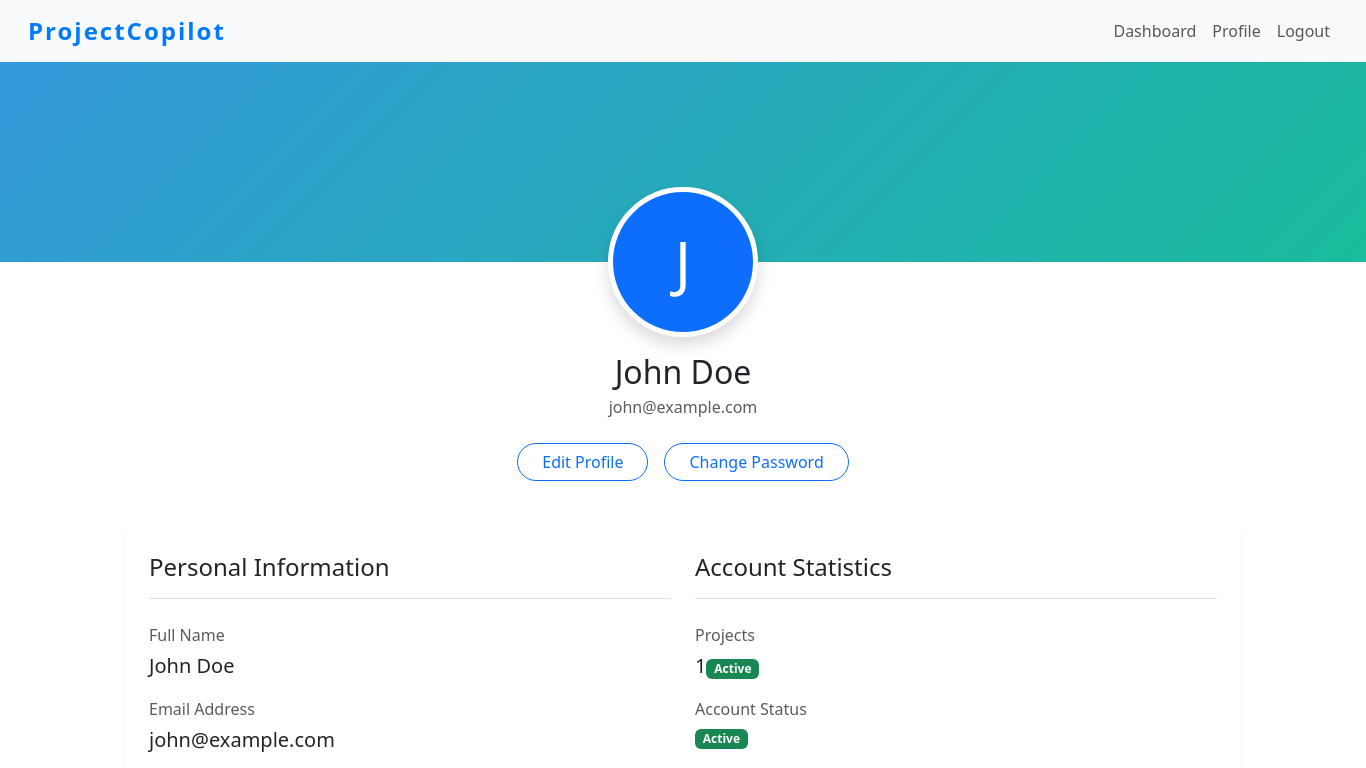
Test case: handles password change error
Step 1. Click the button "Change Password" → [757, 462], box left=664, top=443, right=849, bottom=481
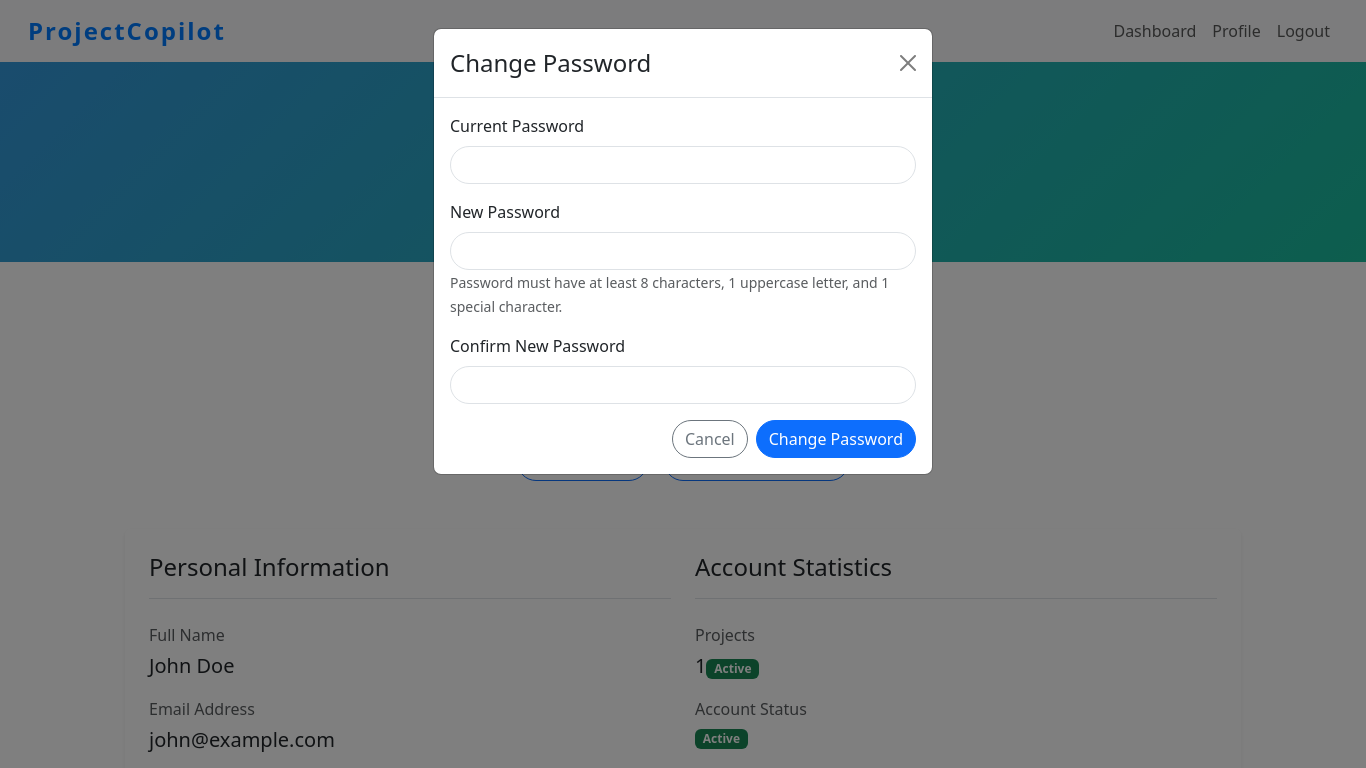
Expected: the number of buttons "Change Password" is 3, left=664, top=443, right=849, bottom=481; left=450, top=45, right=651, bottom=81; left=756, top=420, right=916, bottom=458
Step 2. Type "currentPassword123!" into the password field below "Current Password" → [683, 165], box left=450, top=146, right=916, bottom=184
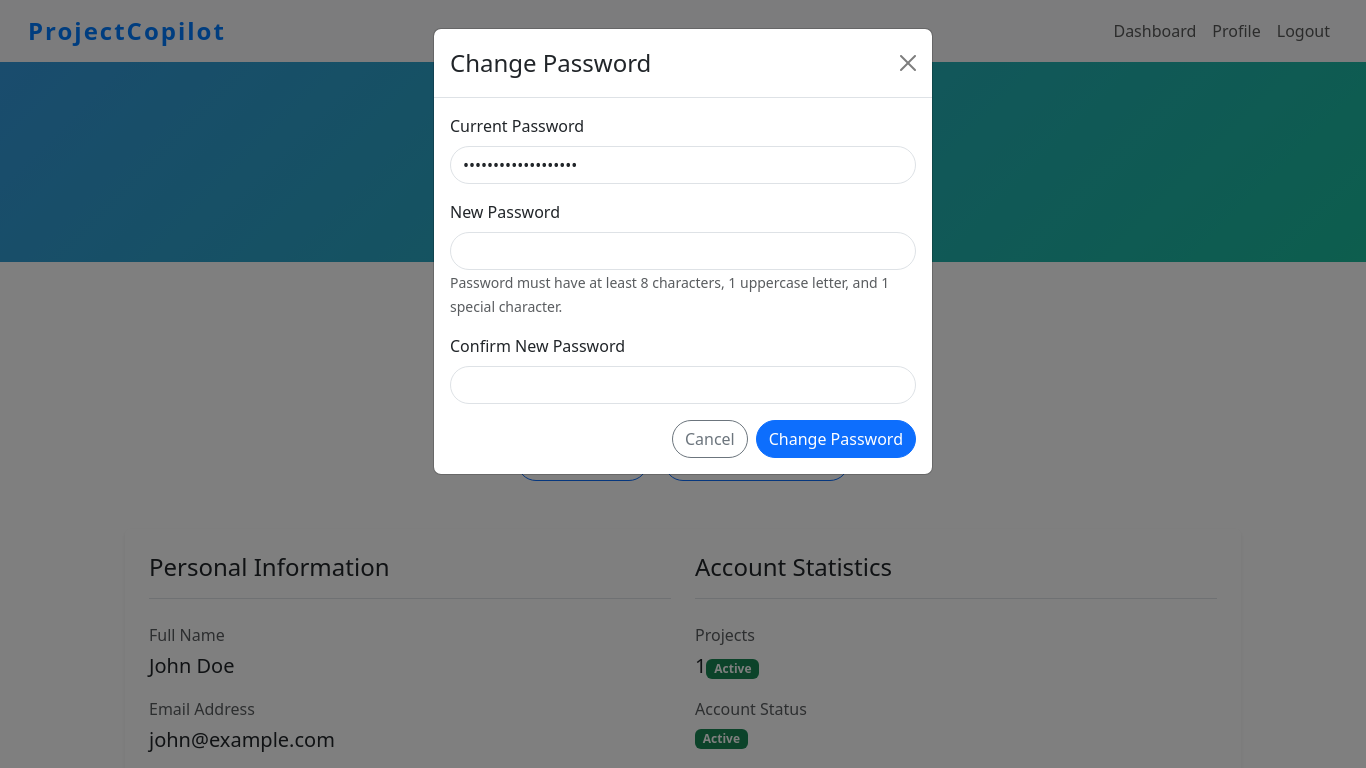
Step 3. Type "newPassword123!" into the 2nd password field → [683, 251], box left=450, top=232, right=916, bottom=270
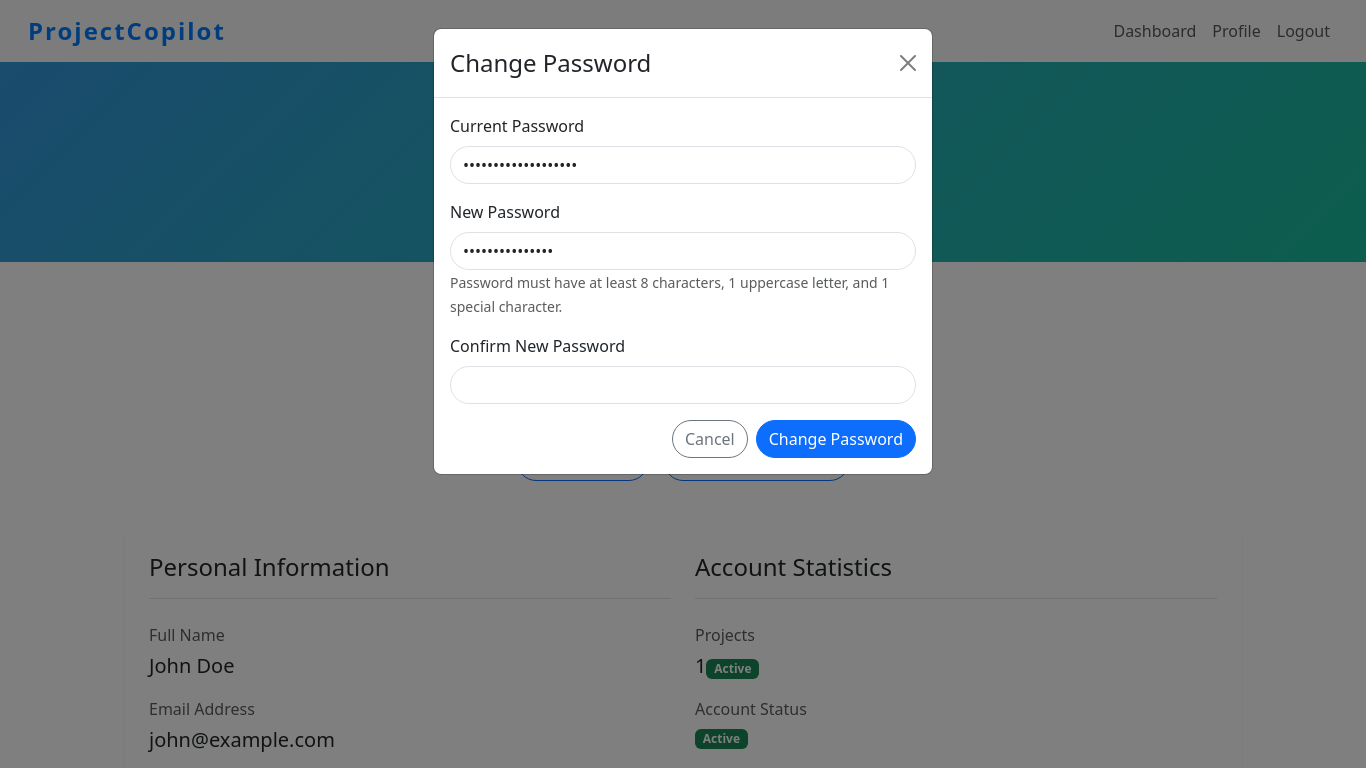
Step 4. Type "newPassword123!" into the password field below "Confirm New Password" → [683, 385], box left=450, top=366, right=916, bottom=404
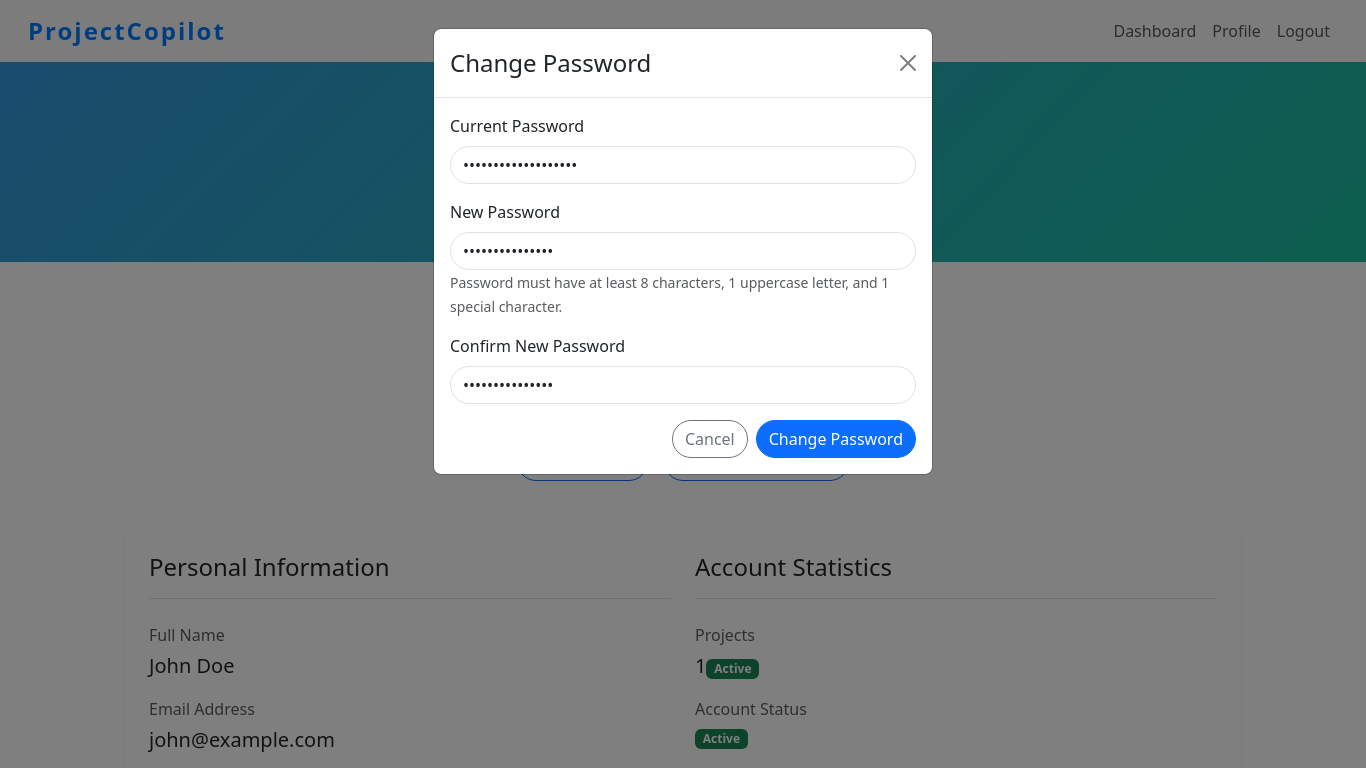
# Submit password change
Step 5. Click the button "Change Password" → [836, 439], box left=756, top=420, right=916, bottom=458
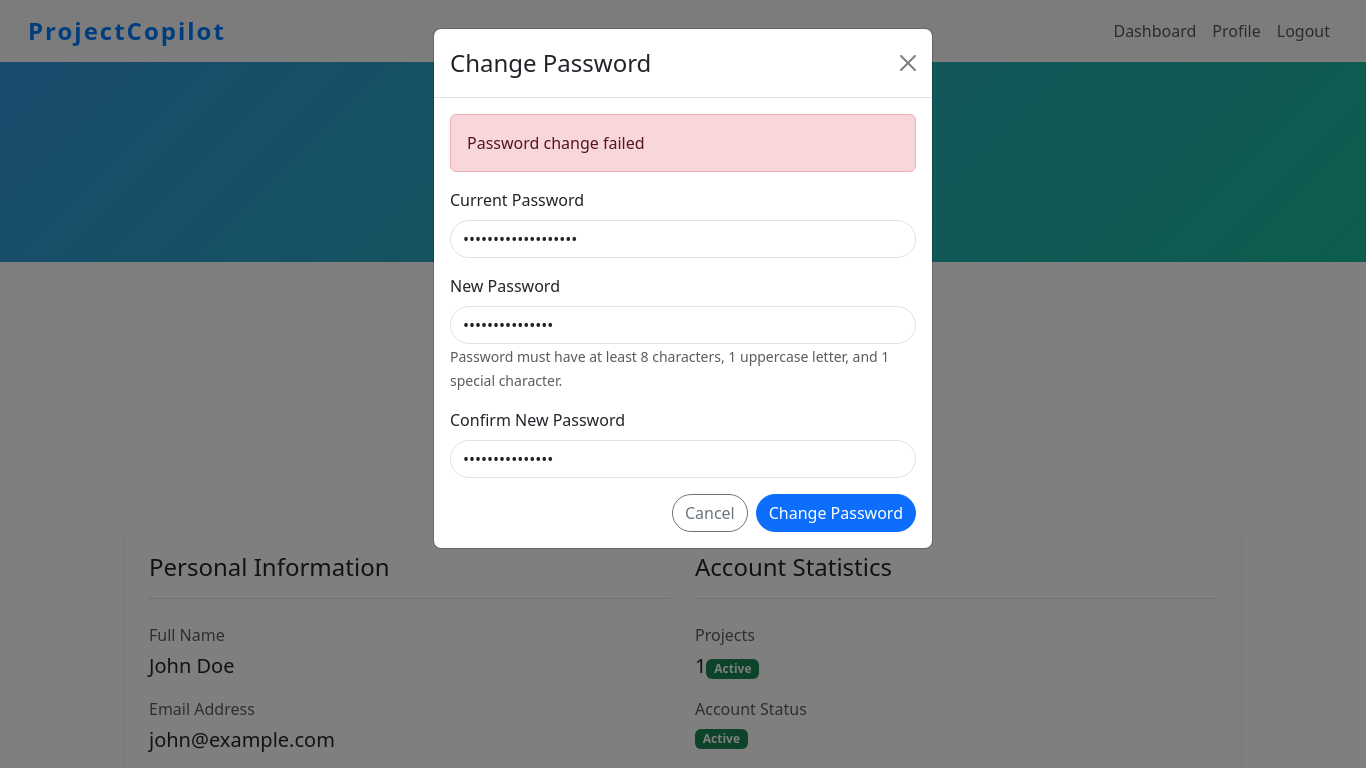
Expected: the text "Password change failed" is shown, left=450, top=114, right=916, bottom=172
